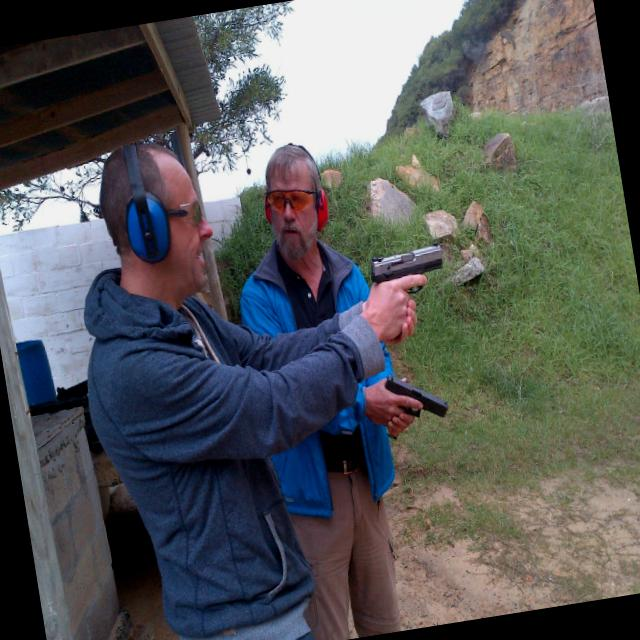handgun: (360, 238, 450, 308), (362, 368, 449, 426)
